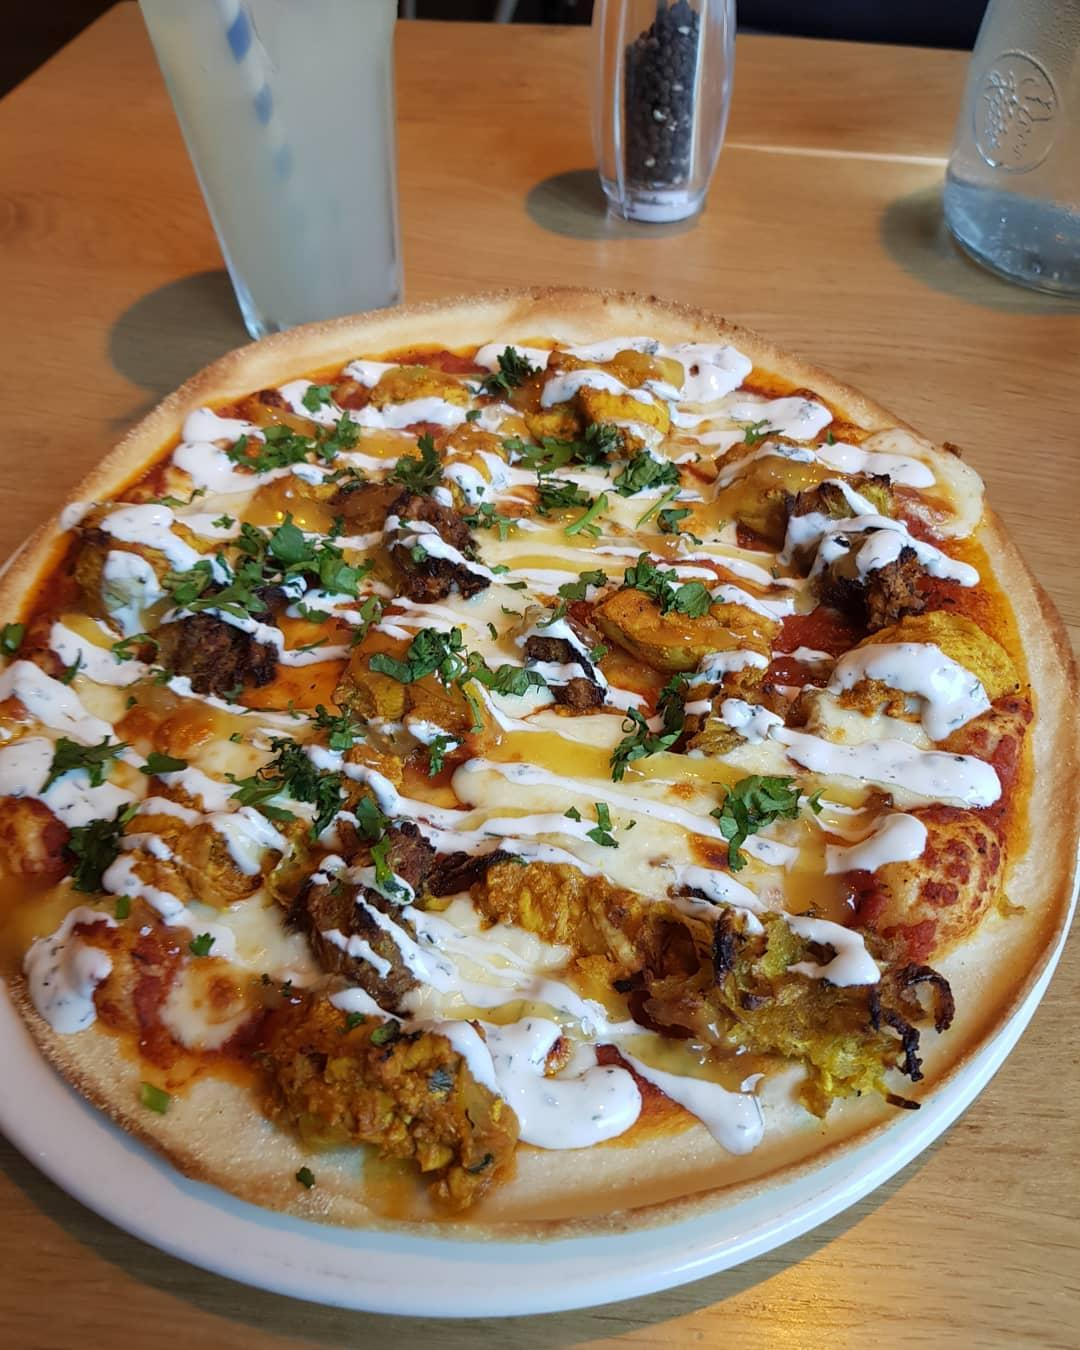Basil: (219, 527, 359, 603), (378, 633, 539, 694), (514, 436, 663, 496), (245, 745, 356, 822), (606, 695, 701, 777), (244, 407, 359, 473), (709, 773, 807, 847), (67, 804, 132, 909), (42, 730, 128, 782), (352, 800, 406, 884), (314, 703, 364, 746)
Chicken: (449, 845, 766, 1046), (263, 991, 510, 1201), (767, 900, 959, 1121), (296, 812, 450, 990), (781, 483, 955, 618), (527, 342, 672, 453), (587, 583, 773, 670), (125, 604, 279, 702), (377, 476, 472, 600)
Pizza: (0, 288, 1080, 1238)
